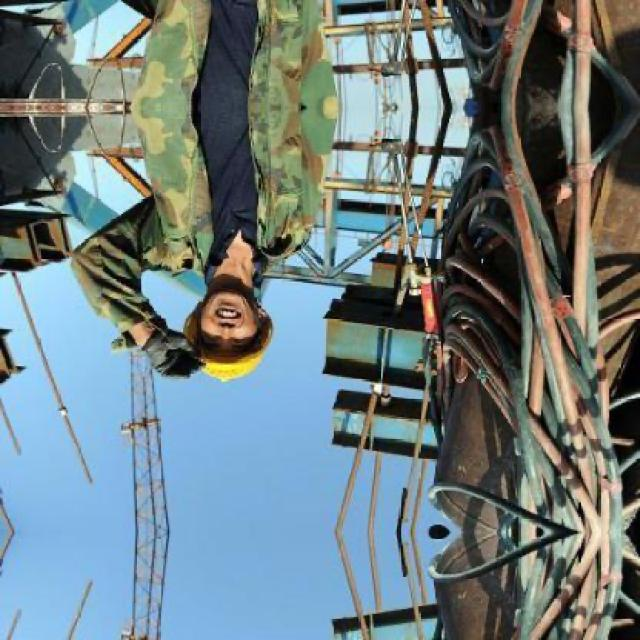con casco: (162, 275, 285, 405)
